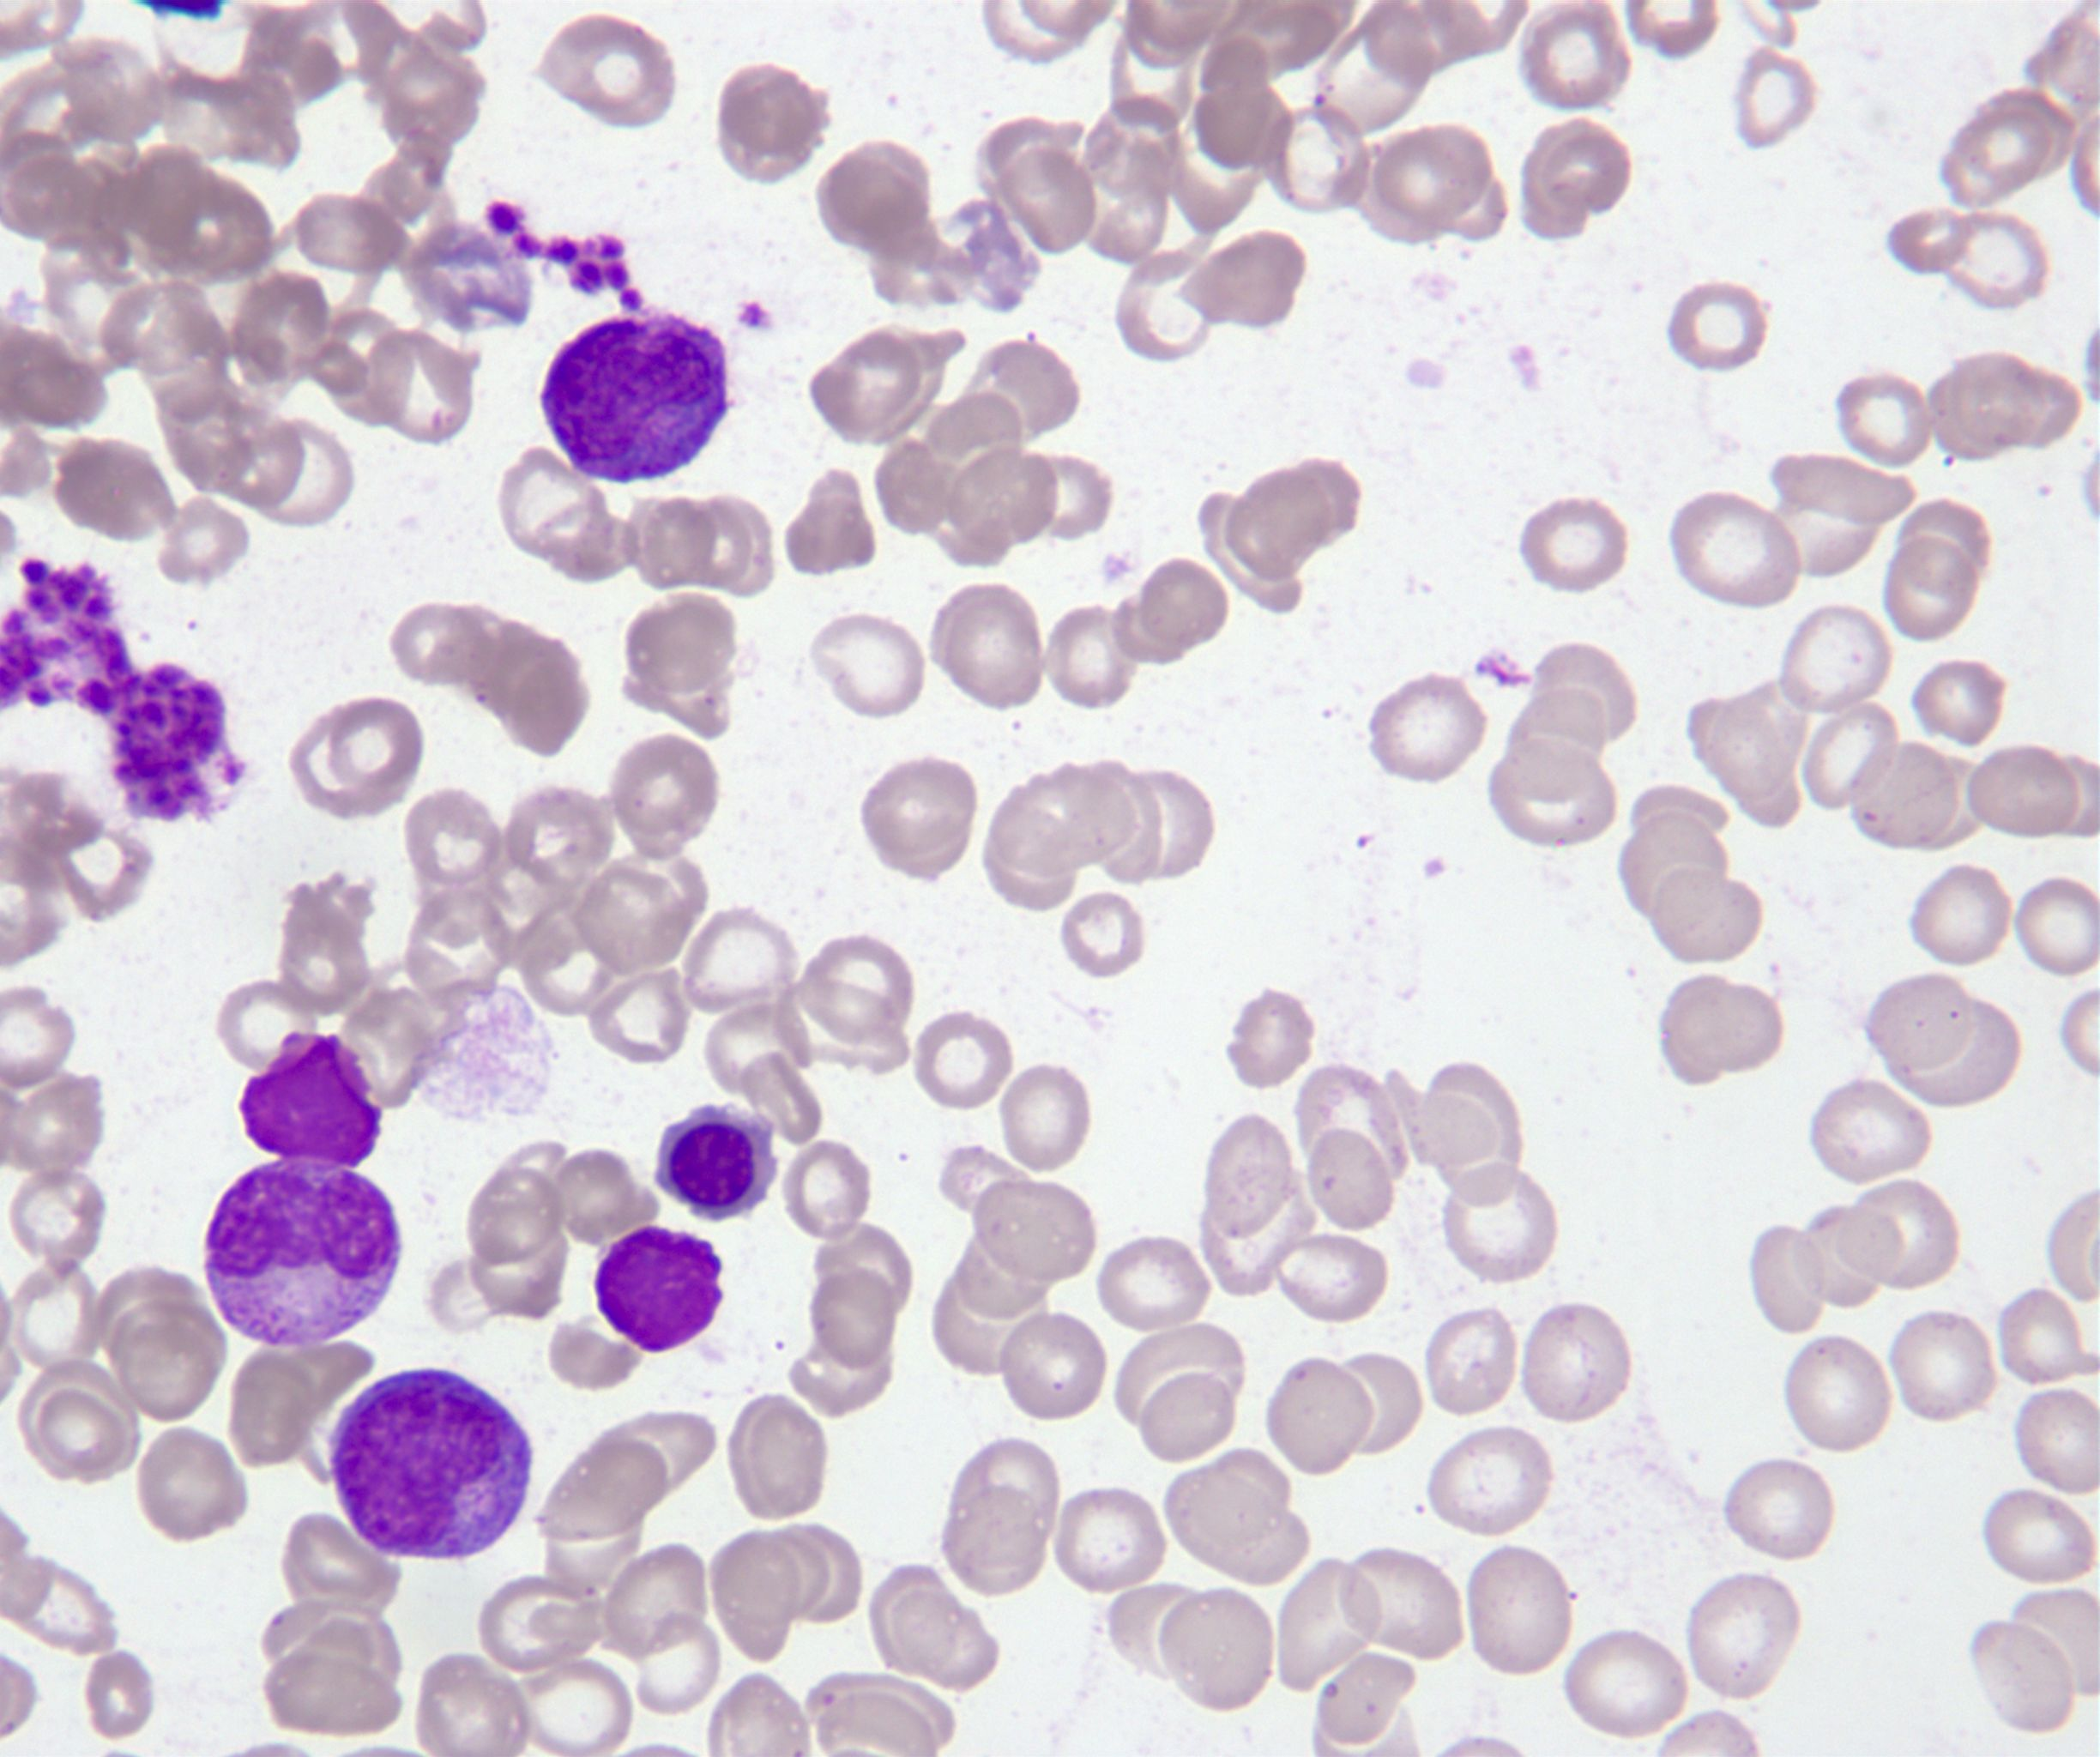24: (654, 1104, 776, 1221)
4: (330, 1370, 530, 1558)
42: (208, 1159, 399, 1343), (539, 312, 726, 482)
x: (0, 558, 244, 824), (239, 1033, 380, 1171), (595, 1228, 724, 1354)
